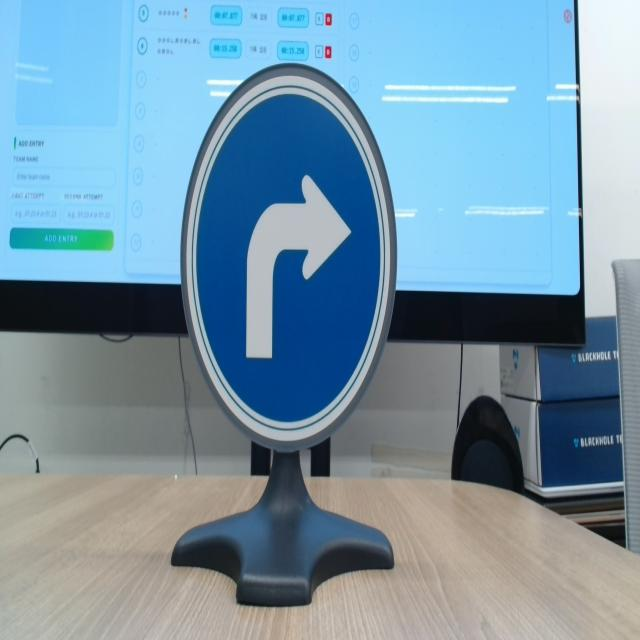right_dierection: (174, 47, 400, 464)
